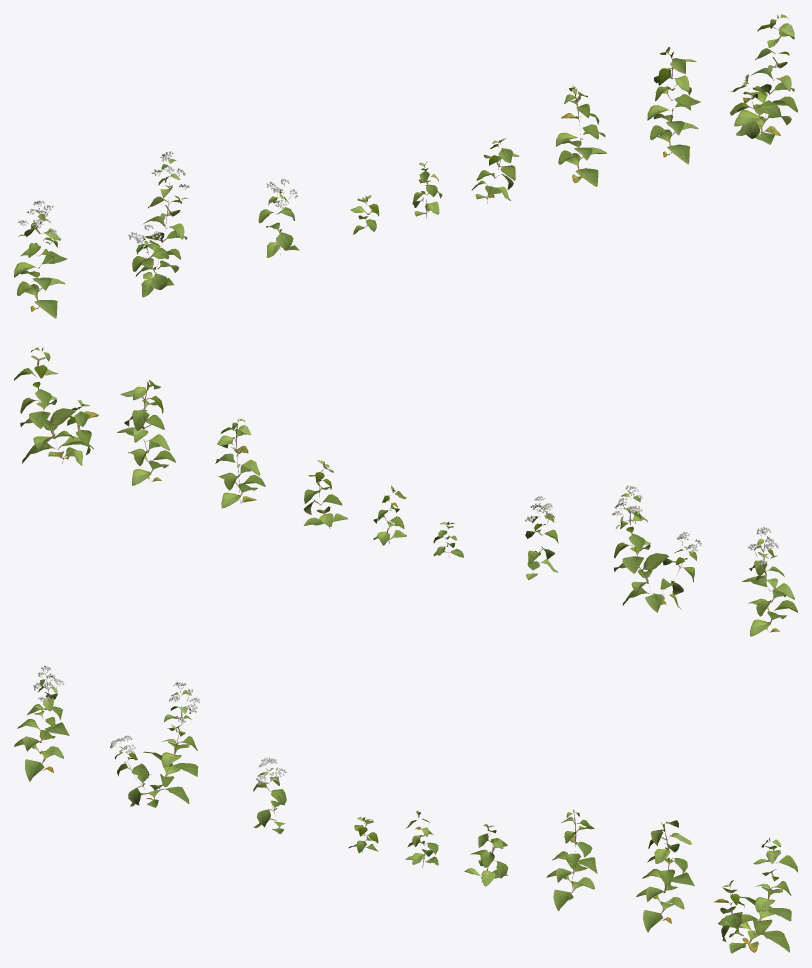
The model's file is shrub_01.glb.
3 views of the same model, one above another, from view 1: azimuth 30°, elevation 25°; view 2: azimuth 150°, elevation 25°; view 3: azimuth 330°, elevation 25° (orthographic). The views are drawn at different scales.
Visible parts, largest first — view 1: shrub_01_a; view 2: shrub_01_a; view 3: shrub_01_a.
Part boxes in pixels (bbox=[...]): shrub_01_a: bbox=[14, 14, 797, 318]; shrub_01_a: bbox=[14, 347, 797, 636]; shrub_01_a: bbox=[14, 665, 797, 953].
Size of the model in its own units: 2.59 by 0.3965 by 0.2195.
Materials: 1 (1 with a texture image).
